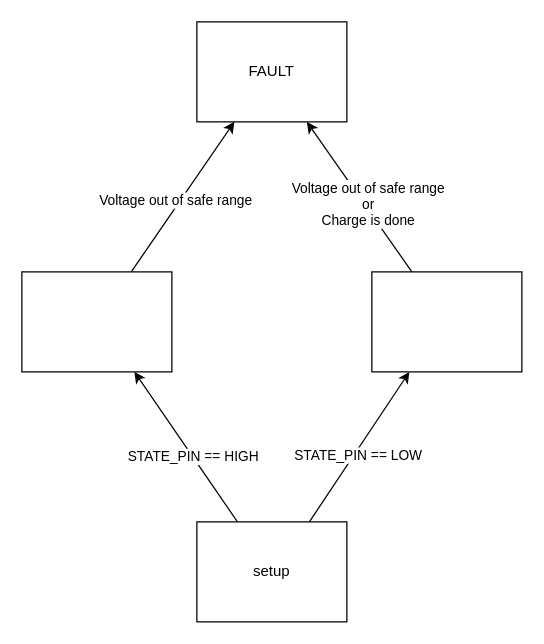
The diagram is 544 pixels wide and 644 high, and some of its shapes have lost their labels. The box of each missing label's shape, as (x1, y1, x2, y2) in pixels:
CHARGE: (371, 271, 522, 372)
WORK: (21, 271, 172, 372)
